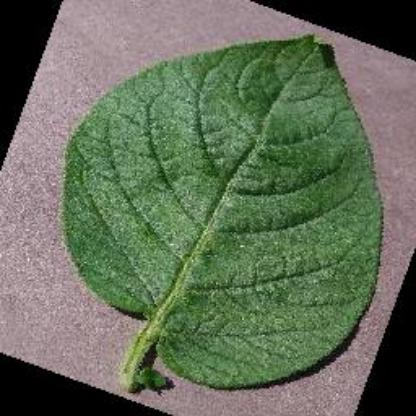Healthy-plant: (55, 35, 387, 398)
